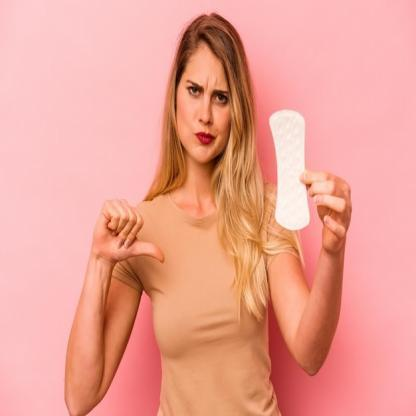thumb_down: (94, 193, 166, 268)
